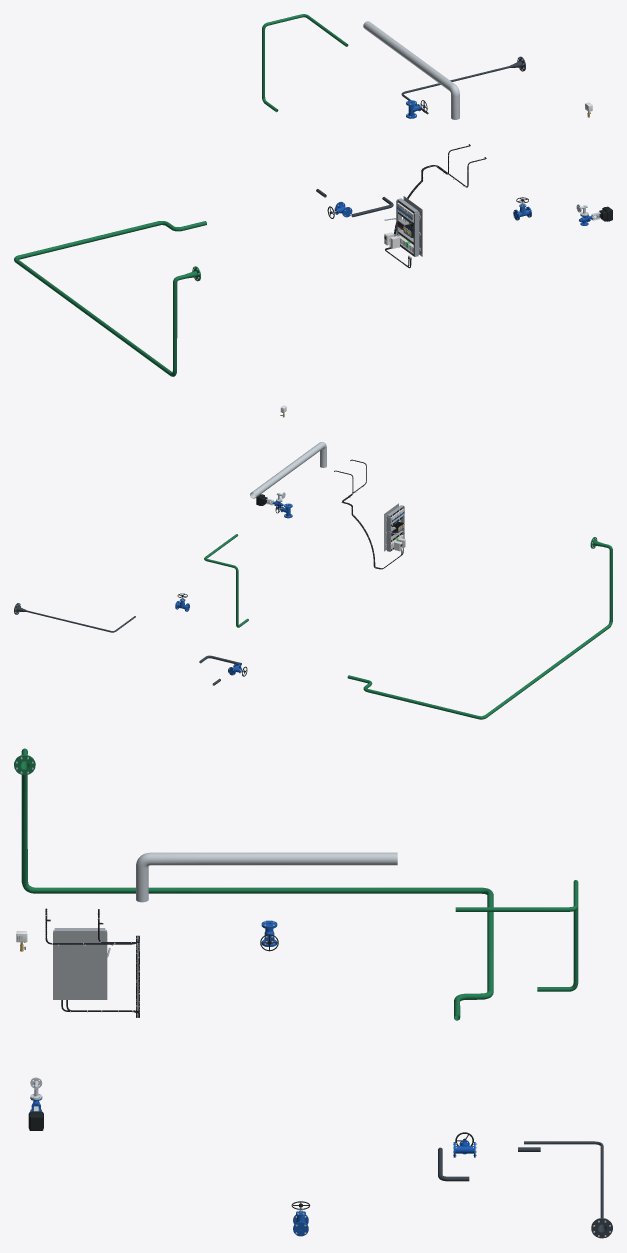
3 views of the same model, one above another, from view 1: azimuth 30°, elevation 25°; view 2: azimuth 150°, elevation 25°; view 3: azimuth 270°, elevation 25° (orthographic). The views are drawn at different scales.
Visible parts, largest first — view 1: deaerator_feed / green, cabinet_interior / cabinet_interior_0.npz, from_economizer / green, steam_delivery / steel, steam_rise / steel; view 2: deaerator_feed / green, cabinet_interior / cabinet_interior_0.npz, from_economizer / green; view 3: deaerator_feed / green, cabinet_interior / cabinet_interior_0.npz, steam_delivery / steel, steam_rise / steel, from_economizer / green, tds_to_fv / dark, gpz_bypass / steel.
Part boxes in pixels (x1=…): deaerator_feed / green: x1=14, y1=221, x2=206, y2=376; cabinet_interior / cabinet_interior_0.npz: x1=384, y1=196, x2=422, y2=256; from_economizer / green: x1=262, y1=14, x2=348, y2=112; steam_delivery / steel: x1=363, y1=21, x2=418, y2=64; steam_rise / steel: x1=429, y1=69, x2=459, y2=119; deaerator_feed / green: x1=347, y1=537, x2=612, y2=719; cabinet_interior / cabinet_interior_0.npz: x1=384, y1=503, x2=404, y2=551; from_economizer / green: x1=204, y1=534, x2=248, y2=627; deaerator_feed / green: x1=14, y1=748, x2=493, y2=1020; cabinet_interior / cabinet_interior_0.npz: x1=53, y1=928, x2=110, y2=999; steam_delivery / steel: x1=253, y1=852, x2=397, y2=865; steam_rise / steel: x1=136, y1=852, x2=207, y2=902; from_economizer / green: x1=455, y1=880, x2=578, y2=991; tds_to_fv / dark: x1=524, y1=1141, x2=612, y2=1238; gpz_bypass / steel: x1=207, y1=852, x2=253, y2=865.
Size of the model in its own units: 8.21 by 3.02 by 5.37.
